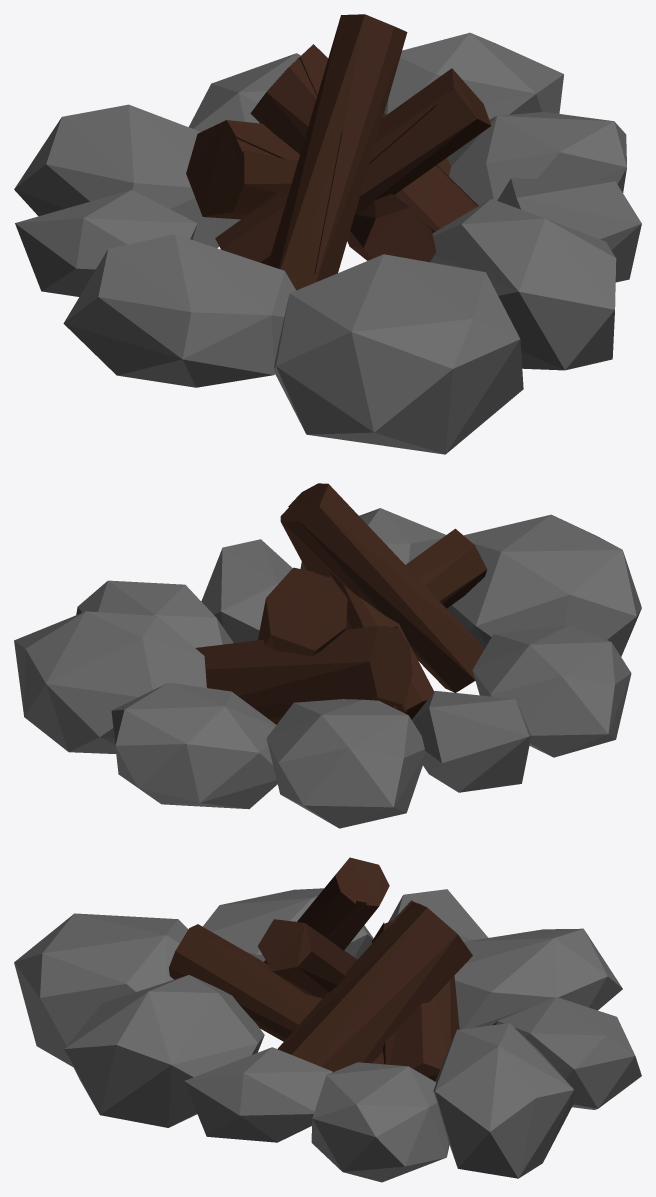
The model's file is Campfire.fbx.
The picture shows the model from 3 angles, top to bottom: view 1: azimuth 30°, elevation 25°; view 2: azimuth 150°, elevation 25°; view 3: azimuth 270°, elevation 25°; orthographic projection. The views are drawn at different scales.
Parts seen in each view (by area): view 1: Campfire; view 2: Campfire; view 3: Campfire.
Boxes of the visible parts, x1=… form: Campfire: x1=14, y1=14, x2=641, y2=454; Campfire: x1=14, y1=483, x2=641, y2=828; Campfire: x1=14, y1=857, x2=641, y2=1182.
Bounding box in the file's own units: 1664 × 756 × 1812.
